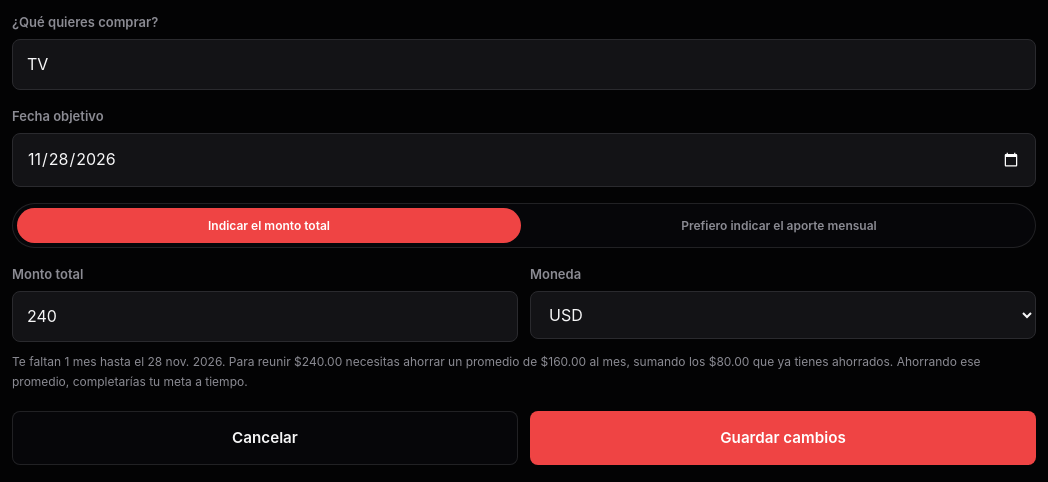
Test: EditGoalForm › modo "Monto total" cuando lo ahorrado ya cubre el nuevo objetivo, avisa que no falta nada
The image size is (1048, 482).
Replace the text in the field with class "amount-input" with "50" at (265, 317), box [12,291,518,342]
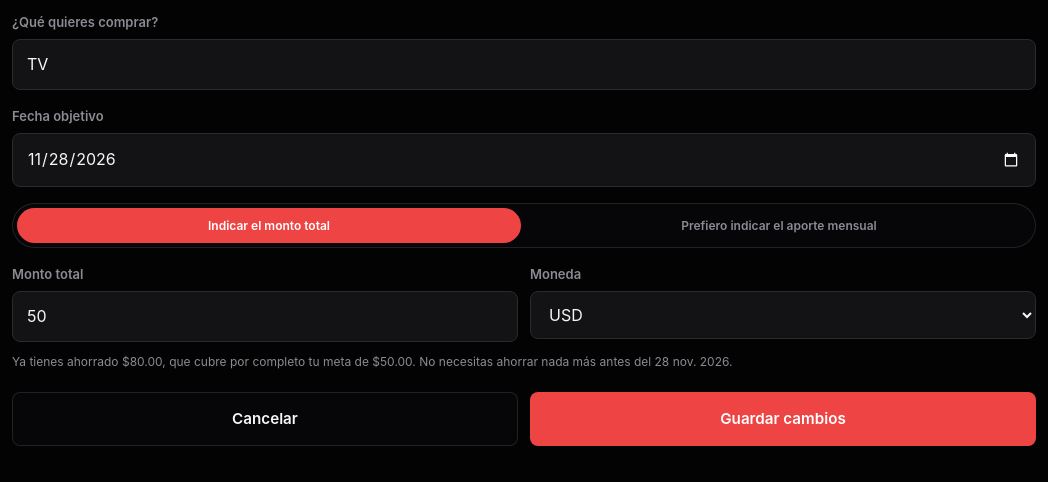
Expected: the text with class "field-hint" shows "cubre por completo tu meta", [12,354,732,369]
Expected: the text with class "field-hint" shows "No necesitas ahorrar nada más", [12,354,732,369]
